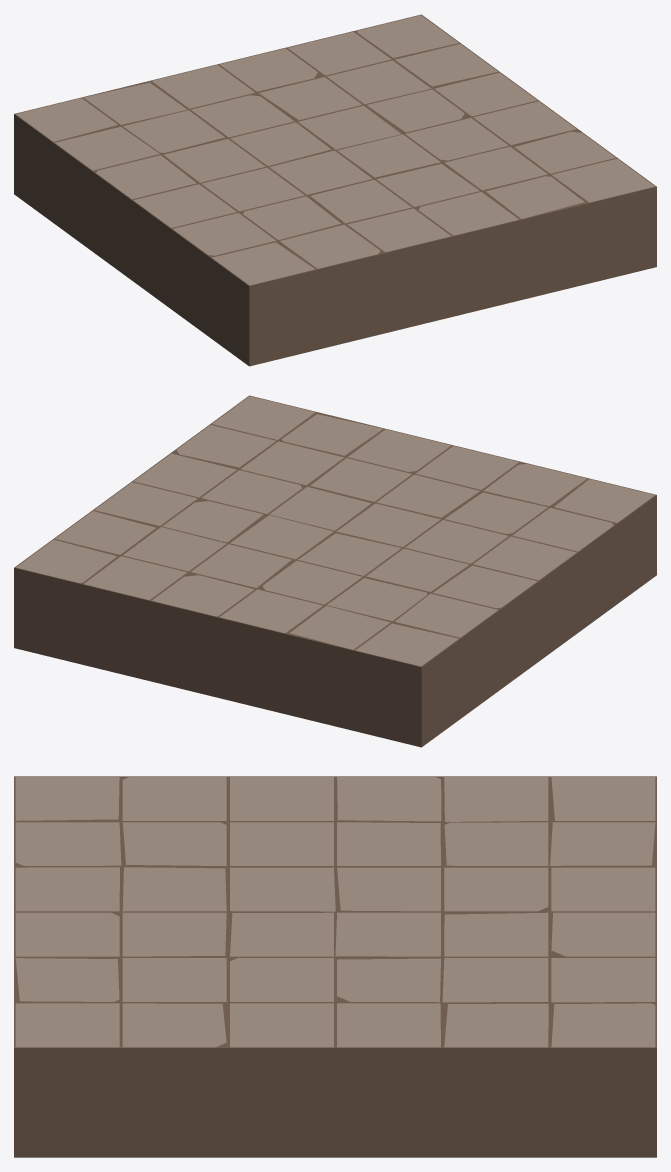
File: Seafront_01.fbx
3 views of the same model, one above another, from view 1: azimuth 30°, elevation 25°; view 2: azimuth 150°, elevation 25°; view 3: azimuth 270°, elevation 25° (orthographic). The views are drawn at different scales.
Parts seen in each view (by area): view 1: Seafront_01; view 2: Seafront_01; view 3: Seafront_01.
Boxes of the visible parts, box(x1,y1,x2,y2) form: Seafront_01: box(14, 14, 656, 366); Seafront_01: box(14, 395, 656, 747); Seafront_01: box(14, 776, 656, 1157).
Bounding box in the file's own units: 600 × 113 × 600.
